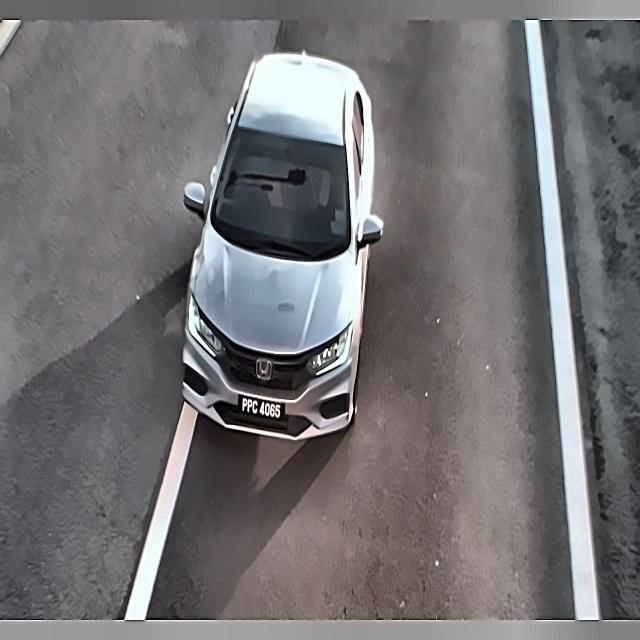car: (236, 391, 290, 428)
